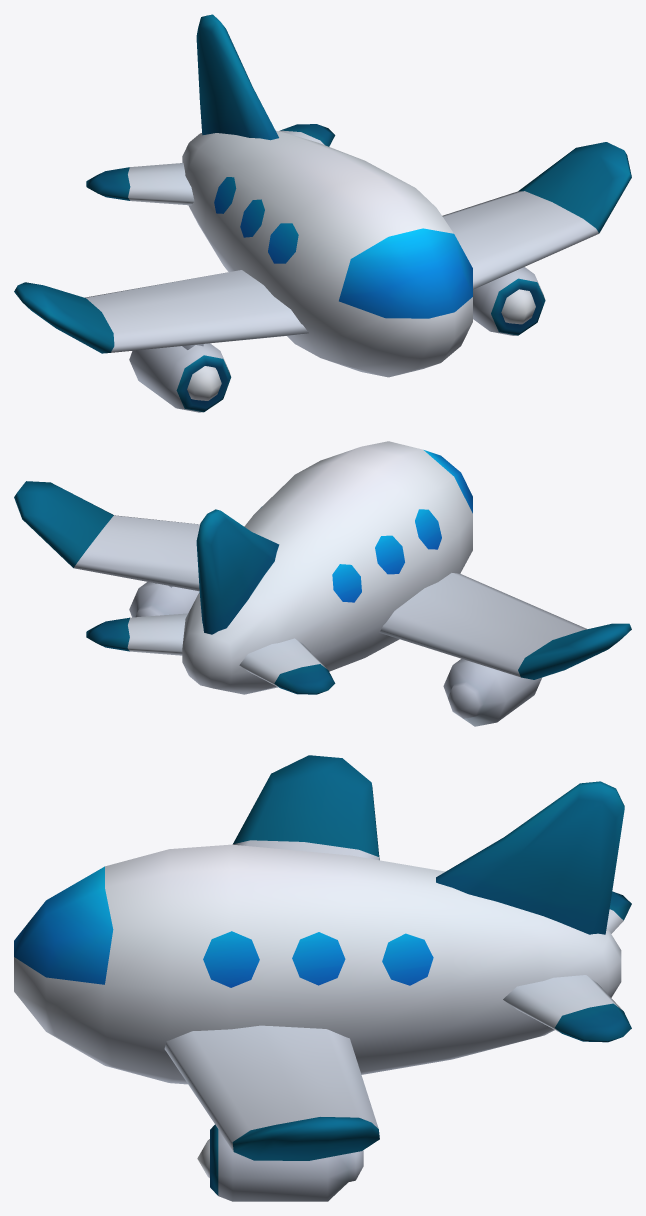
The model's file is airplane.fbx.
3 renders of one model, top to bottom at view 1: azimuth 30°, elevation 25°; view 2: azimuth 150°, elevation 25°; view 3: azimuth 270°, elevation 25°, orthographic. The views are drawn at different scales.
Visible parts, largest first — view 1: airplane; view 2: airplane; view 3: airplane.
Part boxes in pixels (x1=…): airplane: x1=14, y1=14, x2=631, y2=412; airplane: x1=14, y1=441, x2=631, y2=726; airplane: x1=14, y1=755, x2=631, y2=1201.
Size of the model in its own units: 32.04 by 12.8 by 22.4.
